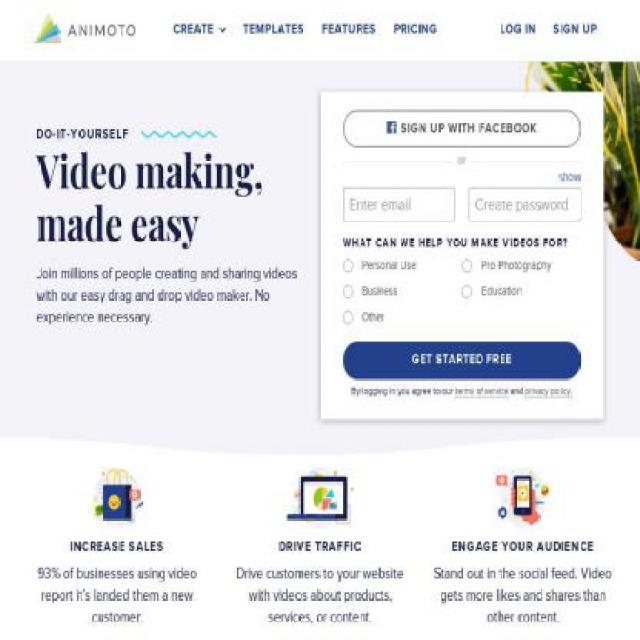button: (342, 110, 581, 148), (342, 341, 581, 379), (0, 14, 135, 48), (243, 24, 305, 38), (321, 24, 377, 38), (455, 385, 510, 398), (393, 24, 438, 38), (553, 24, 598, 38), (525, 385, 573, 398), (172, 24, 214, 38), (558, 166, 582, 188), (499, 24, 536, 38)
field: (342, 187, 456, 221), (468, 187, 582, 221)
